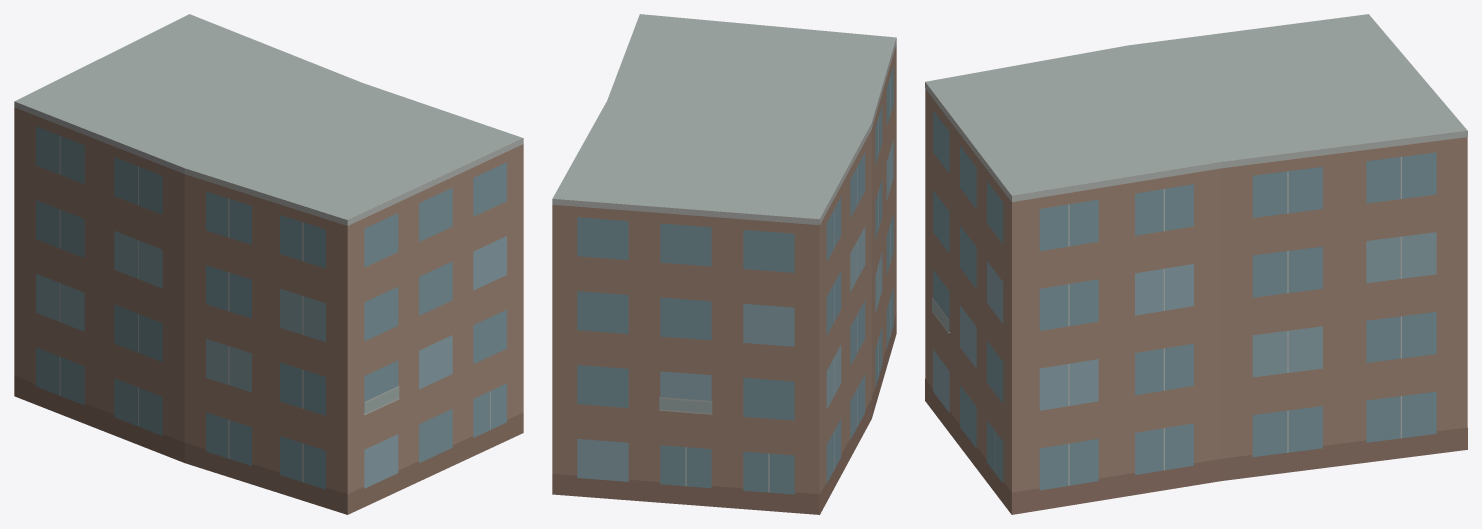
Rendered from survey-upis-32732739.glb.
3 renders of one model, left to right at view 1: azimuth 30°, elevation 25°; view 2: azimuth 150°, elevation 25°; view 3: azimuth 270°, elevation 25°, orthographic. The views are drawn at different scales.
Visible parts, largest first — view 1: survey-upis-32732739.tmp; view 2: survey-upis-32732739.tmp; view 3: survey-upis-32732739.tmp.
Boxes of the visible parts, x1,y1,x2,y2 form: survey-upis-32732739.tmp: (14,14,523,514); survey-upis-32732739.tmp: (552,14,896,514); survey-upis-32732739.tmp: (925,14,1467,514).
Size of the model in its own units: 14.92 by 12.2 by 18.82.
